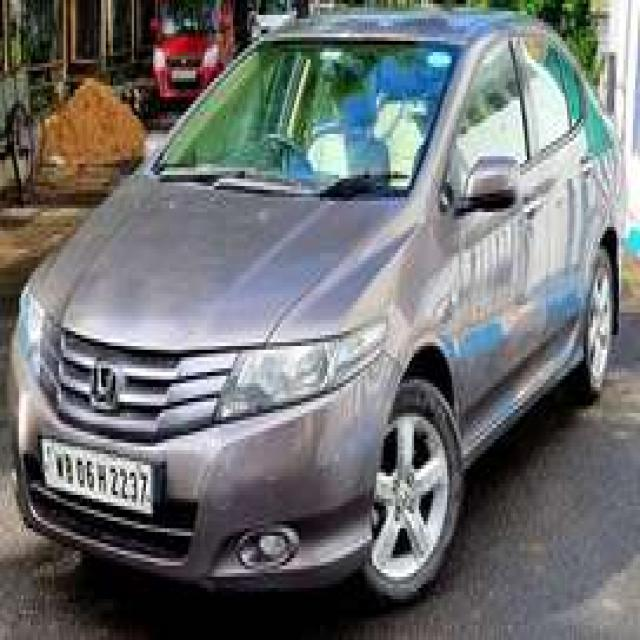Plate: (39, 429, 149, 514)
